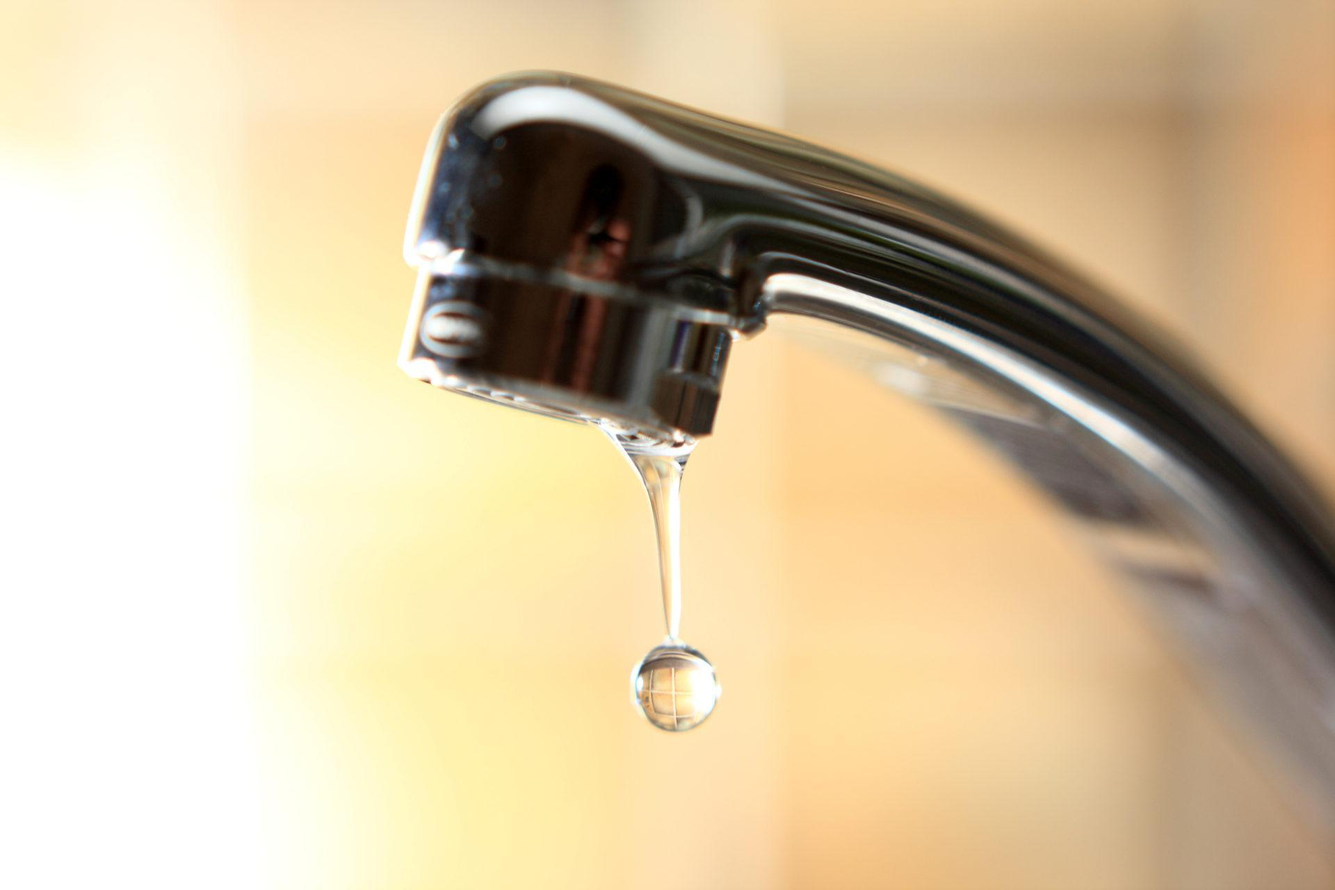water drop: (601, 408, 724, 735)
